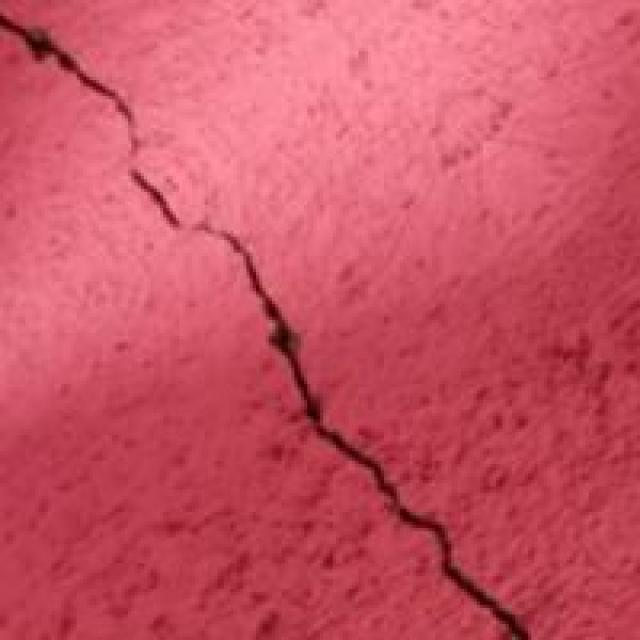crack: (0, 6, 528, 637)
